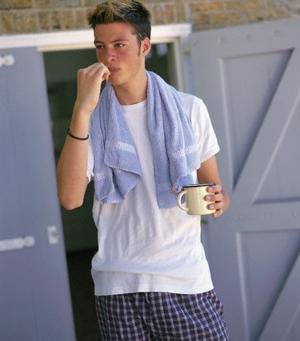person: (56, 4, 232, 341)
